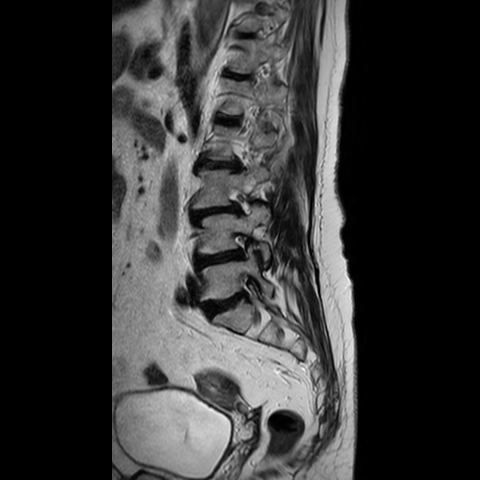LFS1: (226, 223, 261, 268)
